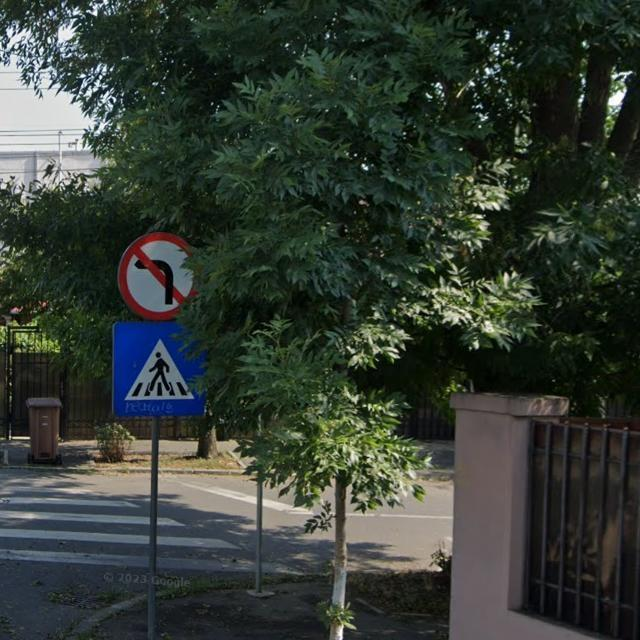info_crosswalk: (111, 321, 207, 417)
